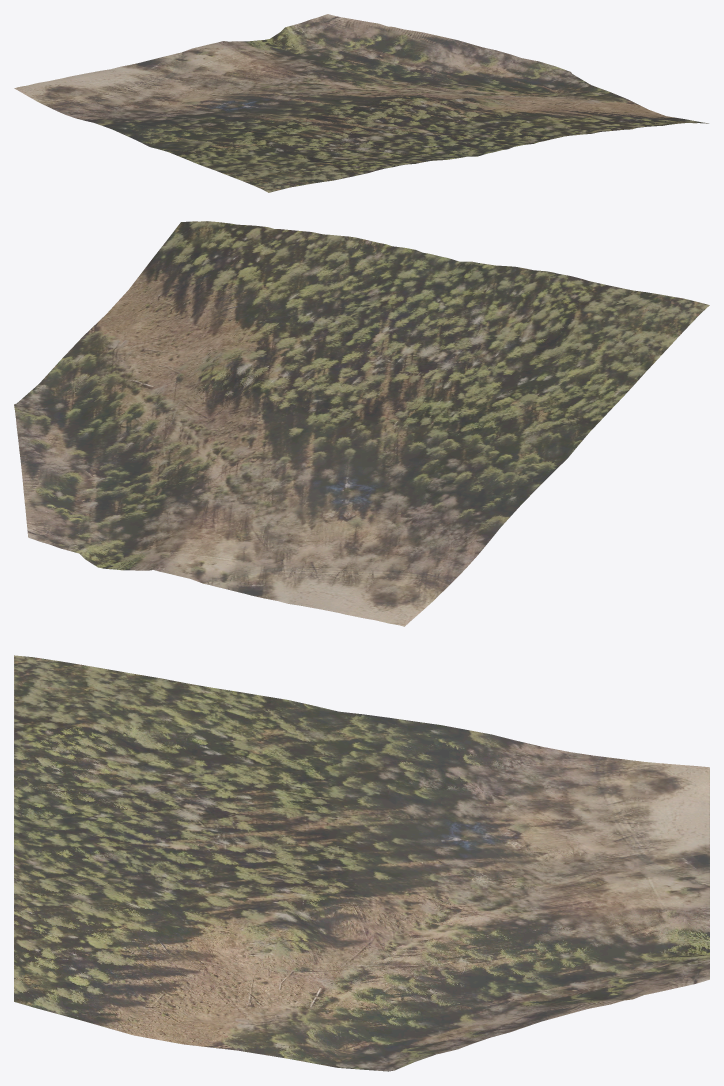
The model's file is CM_Terrain_24493530_6816927.fbx.
3 views of the same model, one above another, from view 1: azimuth 30°, elevation 25°; view 2: azimuth 150°, elevation 25°; view 3: azimuth 270°, elevation 25° (orthographic). The views are drawn at different scales.
Visible parts, largest first — view 1: CM_Terrain_24493530_6816927_LOD0; view 2: CM_Terrain_24493530_6816927_LOD0; view 3: CM_Terrain_24493530_6816927_LOD0.
Boxes of the visible parts, x1,y1,x2,y2 form: CM_Terrain_24493530_6816927_LOD0: [14, 14, 708, 192]; CM_Terrain_24493530_6816927_LOD0: [14, 221, 709, 626]; CM_Terrain_24493530_6816927_LOD0: [14, 655, 709, 1071].
Size of what is drawn, in the model's own units: 205 by 42.12 by 205.
